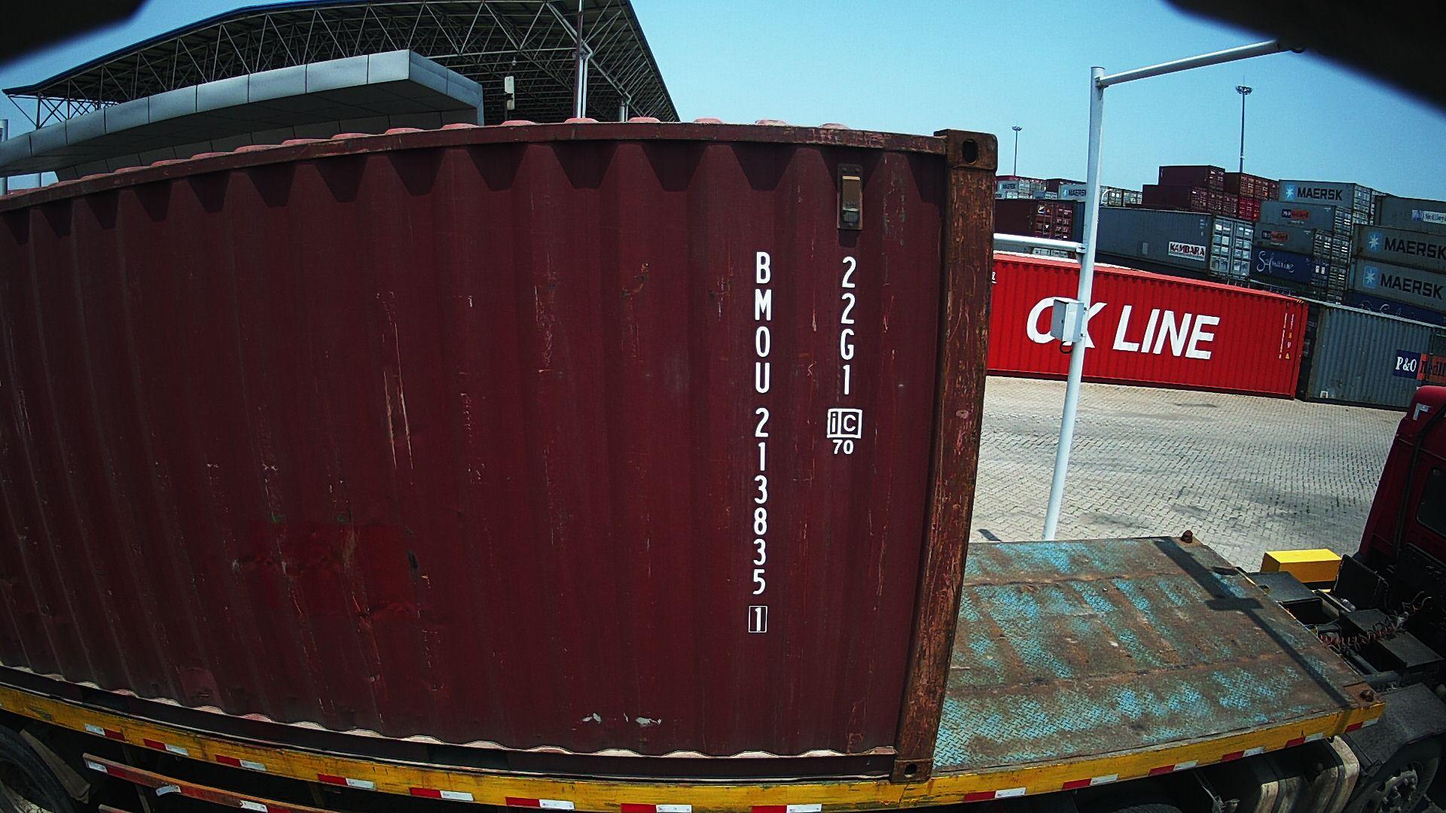container-numbers: (741, 244, 779, 637), (834, 253, 862, 399)
